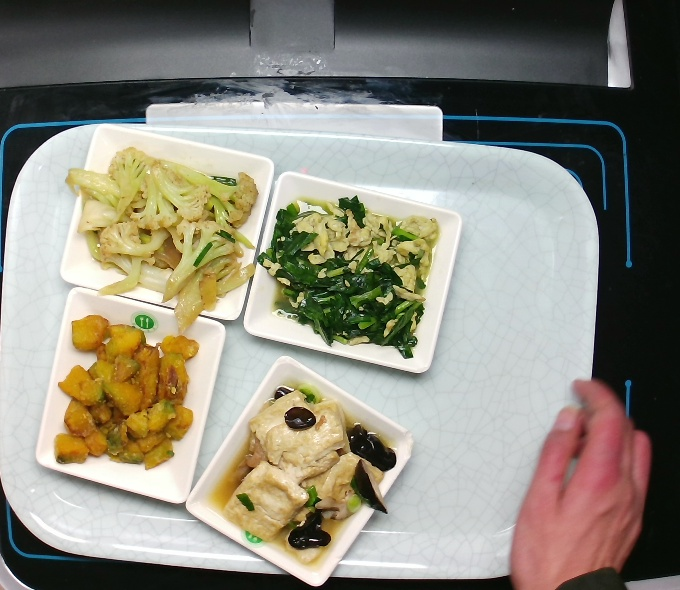wcq-DanHuangNanGua: (50, 304, 199, 471)
wcq-JiaChangDouFu: (214, 376, 401, 556)
wcq-JiuCaiJiDan: (251, 190, 437, 356)
wcq-QiuCai: (51, 142, 260, 330)
